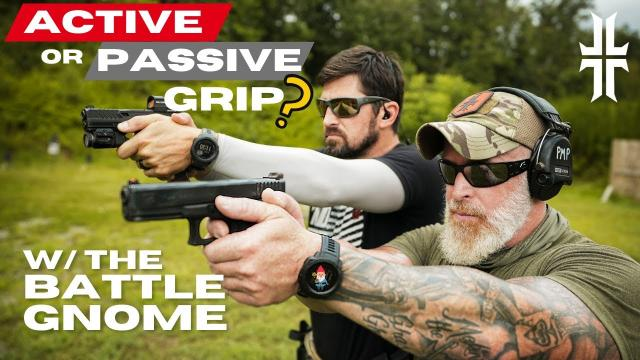handgun: (116, 169, 290, 255), (74, 93, 196, 183)
